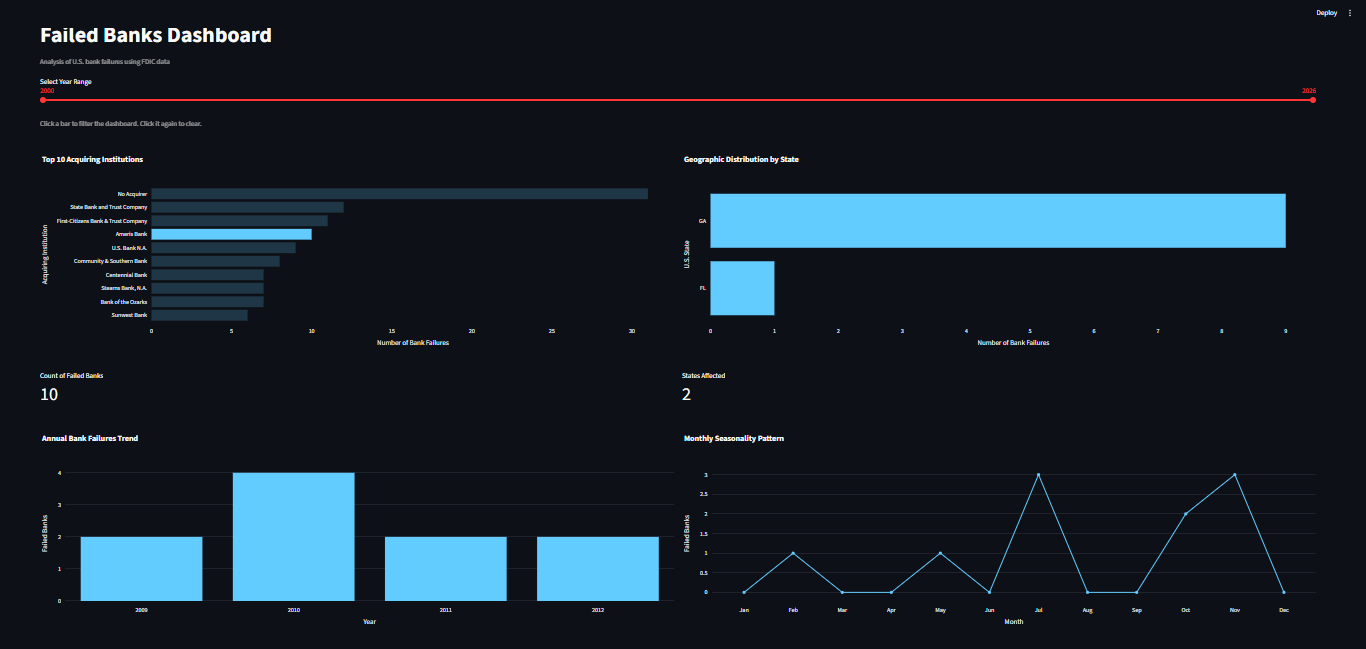

The page's visual inventory and layout, read from the dashboard file:
{"tool":"powerbi","page":{"name":"Overview","canvas":[1280,720],"ordinal":0},"visuals":[{"type":"shape","box":[667.5,472.5,612.5,242.5],"z":1000},{"type":"shape","box":[0,471.7,651.7,243.3],"z":2000},{"type":"shape","box":[0,205.1,712.6,271.7],"z":2500},{"type":"shape","box":[712.6,205.1,567.4,271.7],"z":2750},{"type":"barChart","title":"Geographic Distribution by State","fields":{"Category":["Failed Banks.State "],"Y":["CountNonNull(Failed Banks.Bank Name )"]},"box":[726,218,554,254],"z":3000},{"type":"lineStackedColumnComboChart","title":"Annual Bank Failures Trend","fields":{"Category":["Calendar.Date.Variation.Date Hierarchy.Year","Calendar.Date.Variation.Date Hierarchy.Month"],"Y":["CountNonNull(Failed Banks.Bank Name )"]},"box":[0,480,640,240],"z":4000},{"type":"lineChart","title":"Monthly Seasonality Pattern","fields":{"Category":["Calendar.Month"],"Y":["CountNonNull(Failed Banks.Bank Name )"]},"box":[665,480,612.5,240],"z":5000},{"type":"textbox","box":[0,0,1264.3,70.6],"z":6000},{"type":"cardVisual","fields":{"Data":["Count(Failed Banks.State )"]},"box":[268.8,77.5,250,140],"z":7000},{"type":"slicer","title":"Year","fields":{"Values":["Calendar.Year"]},"box":[727.2,95,544.3,113.8],"z":8000},{"type":"clusteredBarChart","title":"Top Acquiring Institution ","fields":{"Category":["Failed Banks.Acquiring Institution "],"Y":["CountNonNull(Failed Banks.Bank Name )"]},"box":[0,218,698,254],"z":9000},{"type":"cardVisual","fields":{"Data":["_measuress.Count of Failed Banks"]},"box":[0,77.5,252.5,140],"z":10000}]}

Visuals, with their boxes on the page's 1280x720 design canvas (x1, y1, x2, y2). These are canvas units, not pixel positions in the 1366x649 screenshot, which may show the page scaled, cropped or inside an application window:
shape: 668/472/1280/715
shape: 0/472/652/715
shape: 0/205/713/477
shape: 713/205/1280/477
"Geographic Distribution by State" barChart: 726/218/1280/472
"Annual Bank Failures Trend" lineStackedColumnComboChart: 0/480/640/720
"Monthly Seasonality Pattern" lineChart: 665/480/1278/720
textbox: 0/0/1264/71
cardVisual - Count(Failed Banks.State ): 269/78/519/218
"Year" slicer: 727/95/1272/209
"Top Acquiring Institution " clusteredBarChart: 0/218/698/472
cardVisual - _measuress.Count of Failed Banks: 0/78/252/218
